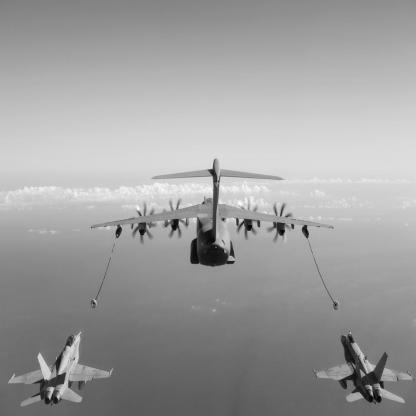A400M: (91, 159, 335, 269)
F18: (9, 331, 114, 408), (313, 332, 416, 406)
